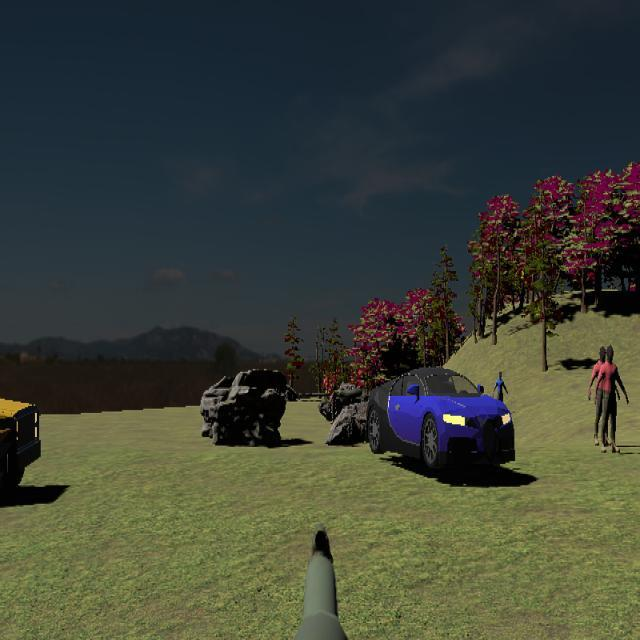Human: (596, 347, 629, 452)
car: (367, 366, 516, 472), (0, 356, 42, 512)
